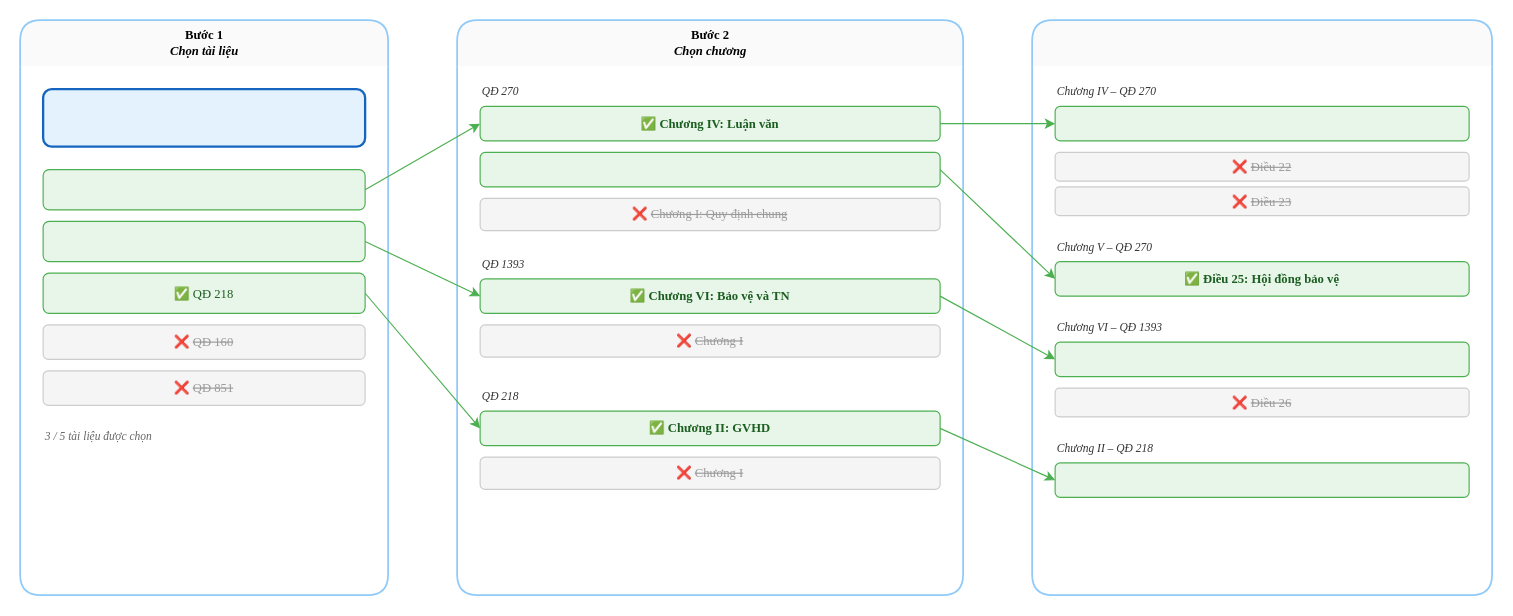
Some shapes in this 1513 by 616 pixel diagram are drawn without their labels. Each missing label, with the box of its shape:
"Điều kiện để được bảo vệ luận văn thạc sĩ?": (41, 87, 366, 147)
Bước 3 Chọn điều: (1031, 19, 1492, 595)
✅ Chương V: Bảo vệ: (479, 151, 940, 187)
✅ QĐ 1393: (42, 220, 365, 262)
✅ QĐ 270: (42, 168, 365, 210)
✅ Điều 24: Điều kiện bảo vệ: (1054, 105, 1469, 141)
✅ Điều 25: Điều kiện bảo vệ: (1054, 341, 1469, 377)
✅ Điều 3: Trách nhiệm GVHD: (1054, 462, 1469, 497)
